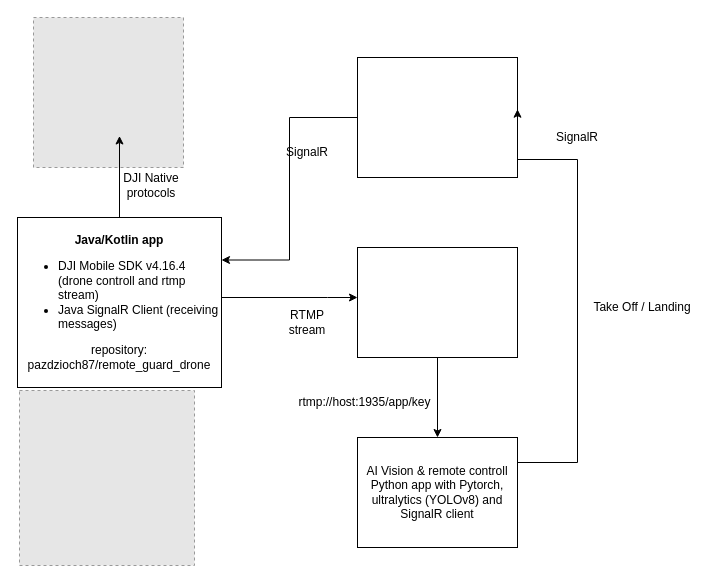
The diagram is 725 pixels wide and 583 high, and some of its shapes have lost their labels. Grey dashed boxes stand in for pictures. Each missing label, with the box of its shape:
.NET Core 6 API Drone Flight control (SignalR hub): (356, 56, 518, 178)
Nginx with RTMP module: (356, 246, 518, 358)
